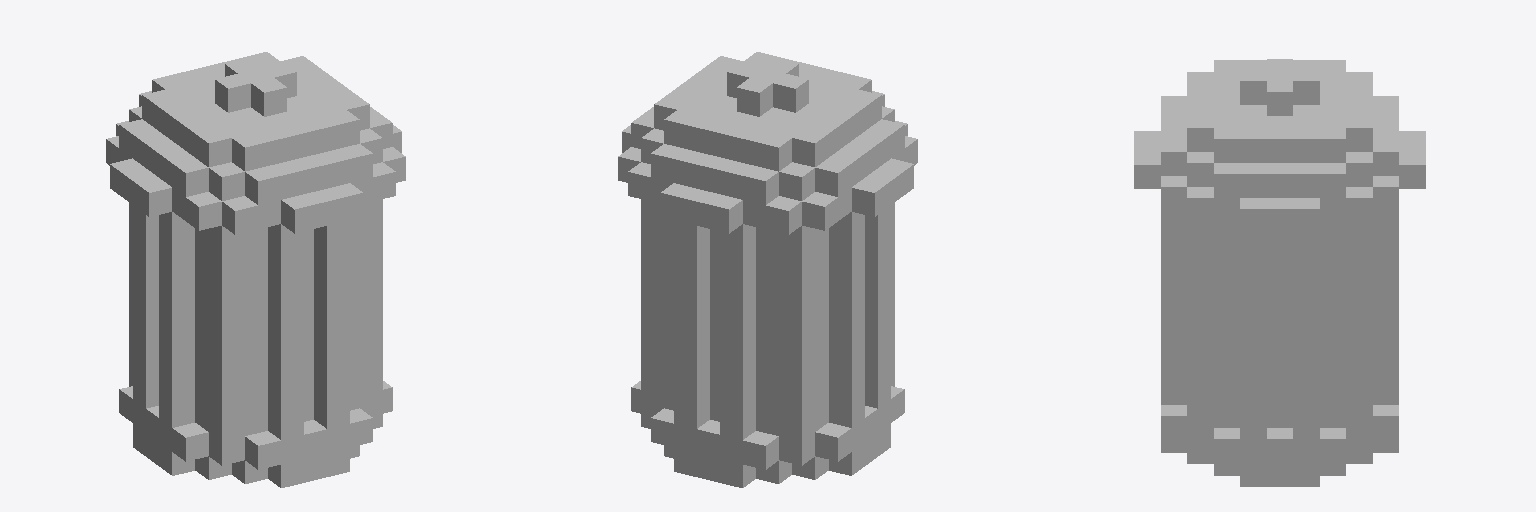
Rendered from 3D Voxel Park-105.obj.
3 renders of one model, left to right at view 1: azimuth 30°, elevation 25°; view 2: azimuth 150°, elevation 25°; view 3: azimuth 270°, elevation 25°, orthographic.
Parts seen in each view (by area): view 1: object 1; view 2: object 1; view 3: object 1.
Boxes of the visible parts, <box> form: object 1: <box>106,52,405,487</box>; object 1: <box>618,52,917,487</box>; object 1: <box>1134,59,1425,486</box>.
Bounding box in the file's own units: 1.1 × 1.5 × 1.1.